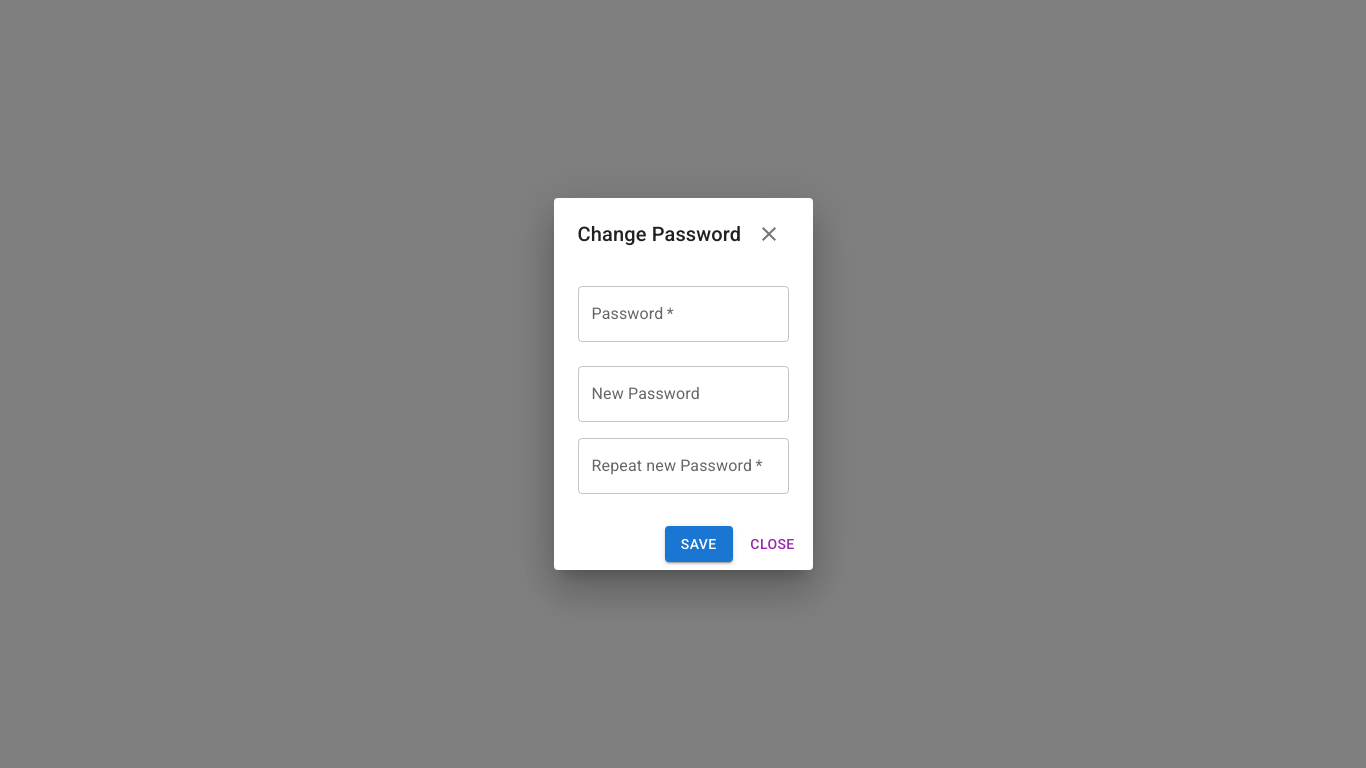
Scenario: UserChangePasswordModalForm › should show an error message if the passwords do not match
This screenshot has width=1366, height=768.
In the password field labelled "Password *": (683, 314) [578,286,788,342], type "password"
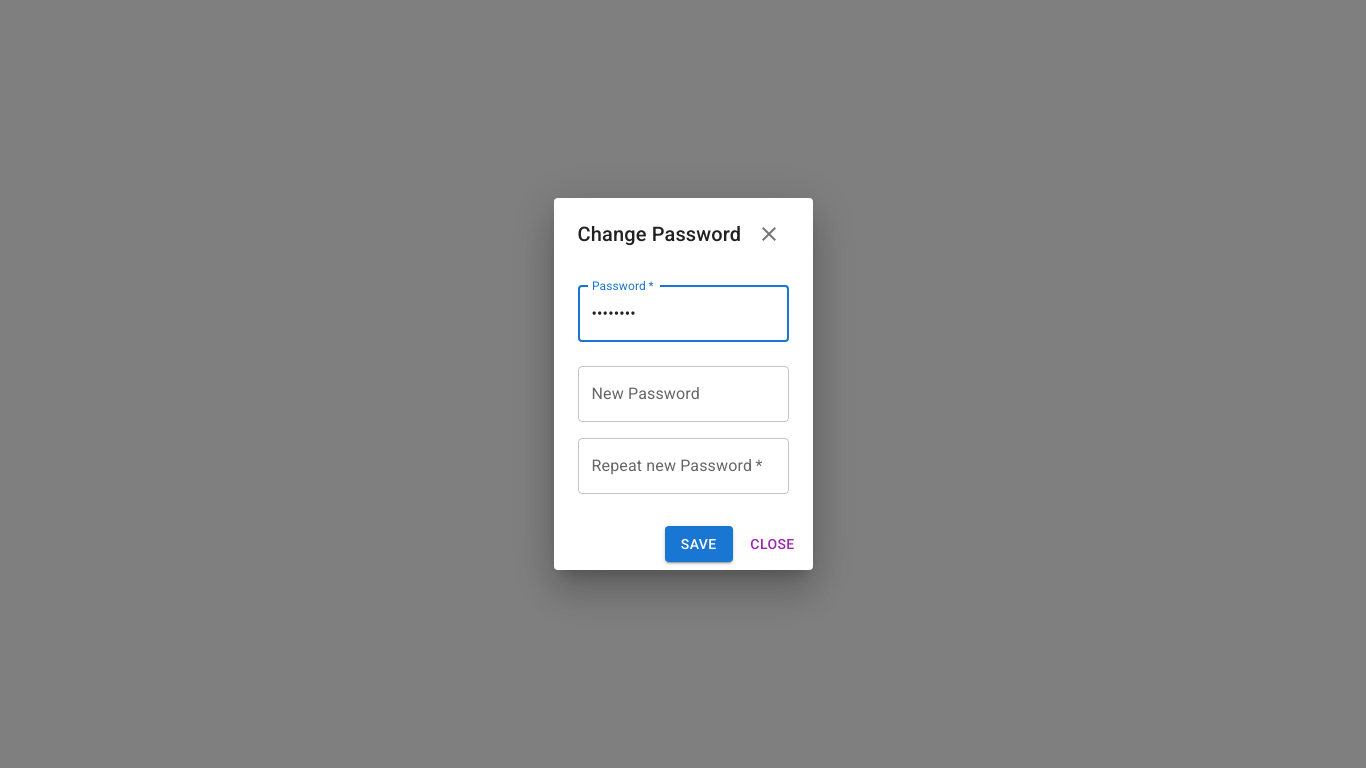
In the password field labelled "New Password": (683, 394) [578,366,788,422], type "newpassword"
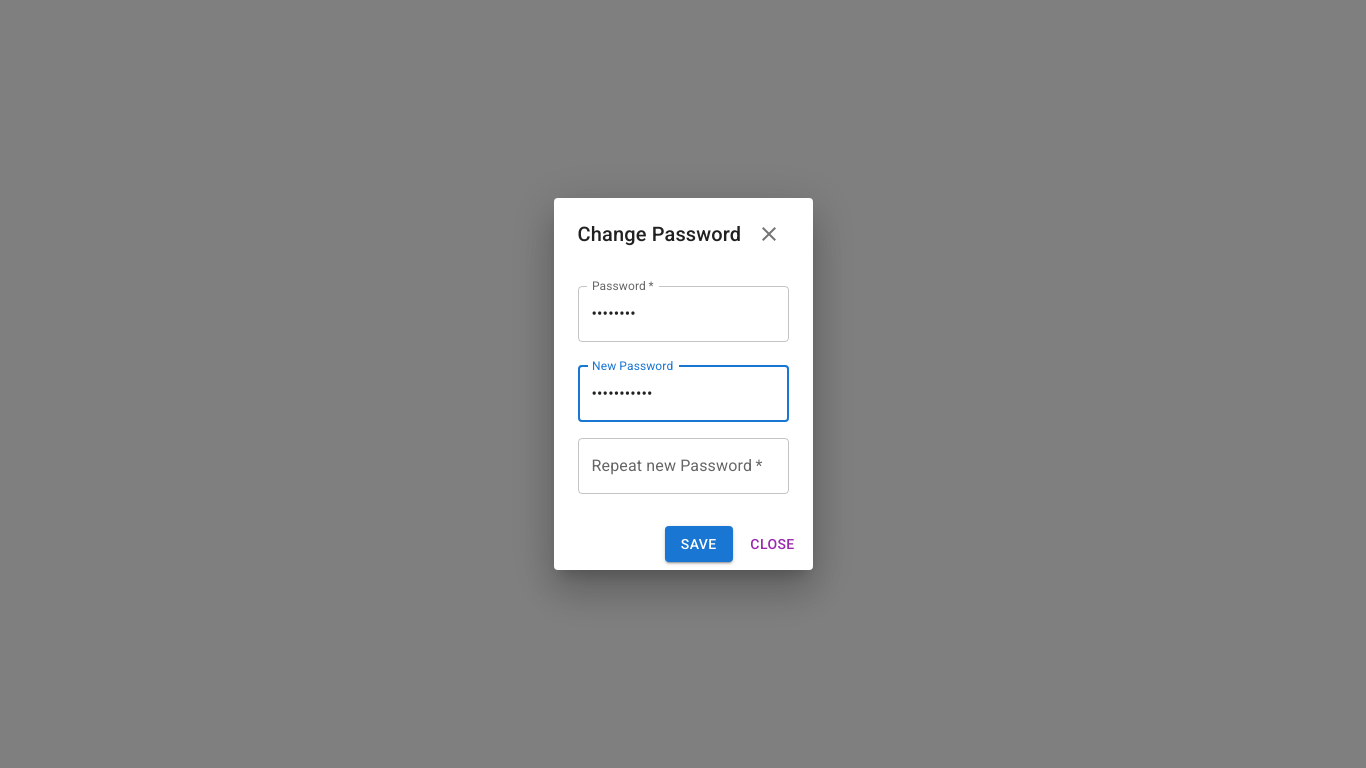
In the password field labelled "Repeat new Password *": (683, 466) [578,438,788,494], type "newpassword2"
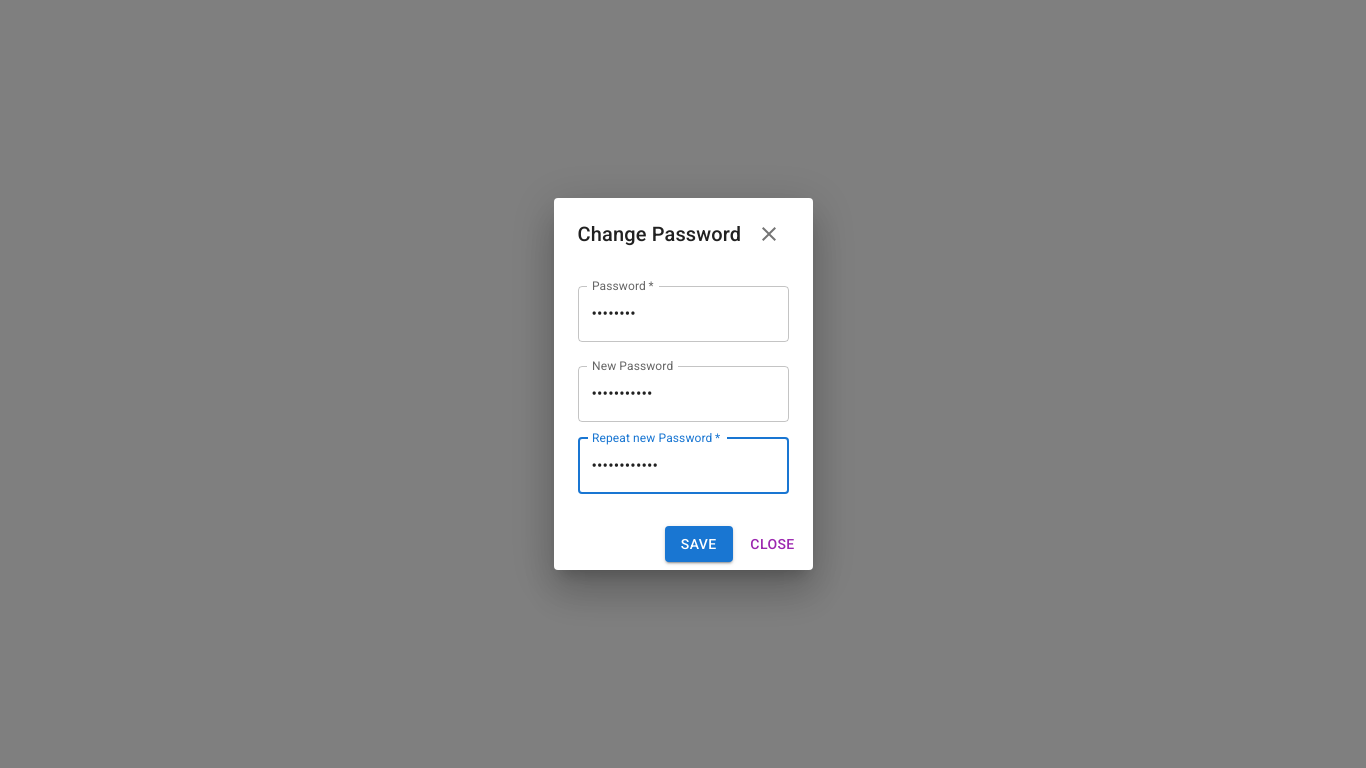
Click the button "Save": (699, 544) [665,526,733,562]
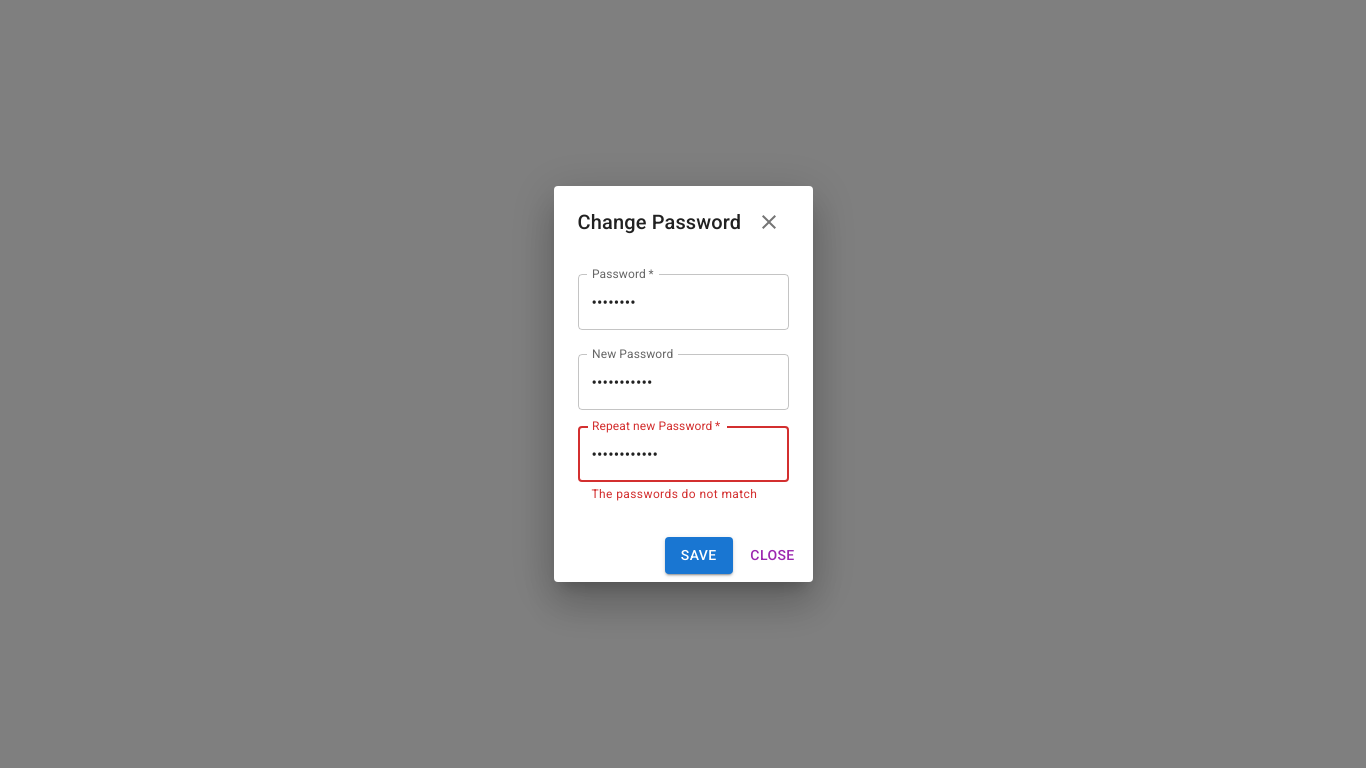
Check: the text "The passwords do not match" is shown, box [592,485,774,505]
